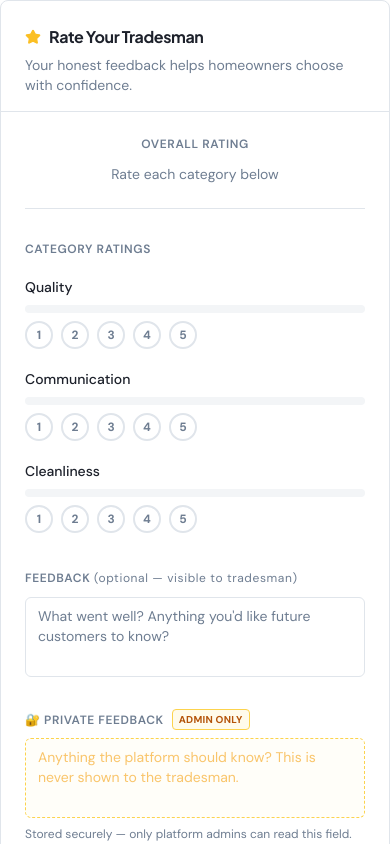
Test: ReviewMediator — live overall score › shows a numeric score once all three categories are rated
Click the button named "score 5": (183, 335) [169,321,197,349]
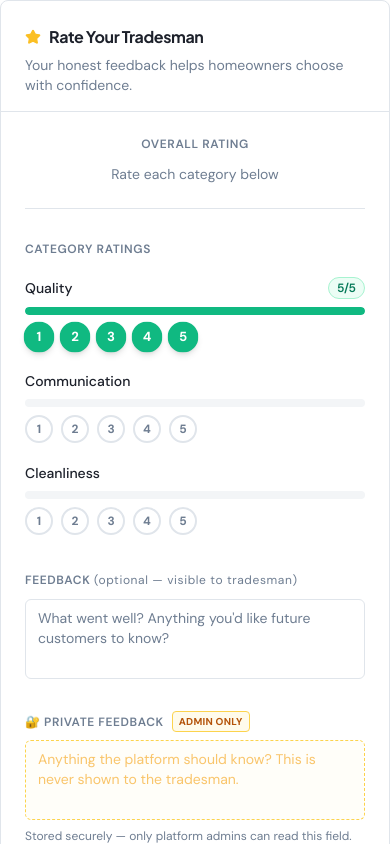
Click the button named "score 5": (183, 429) [169,415,197,443]
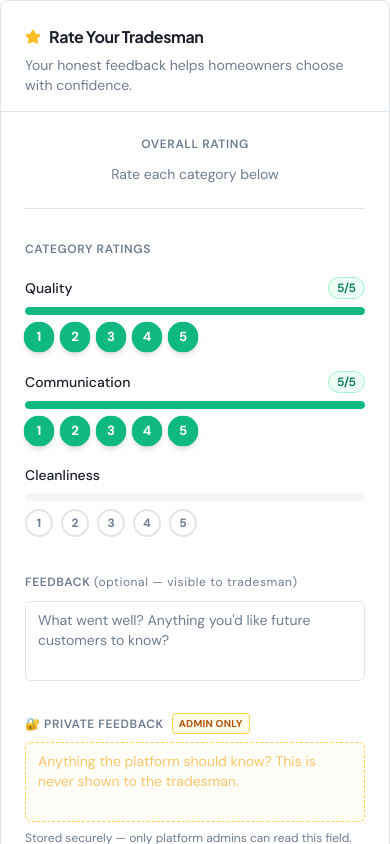
Click the button named "score 5": (183, 523) [169,509,197,537]
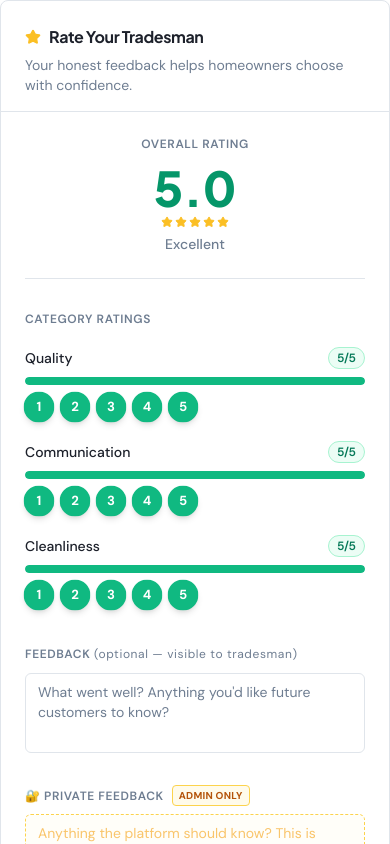
Result: the text "5.0" is shown at [154,164,236,212]
Result: the text "Rate each category below" is gone
